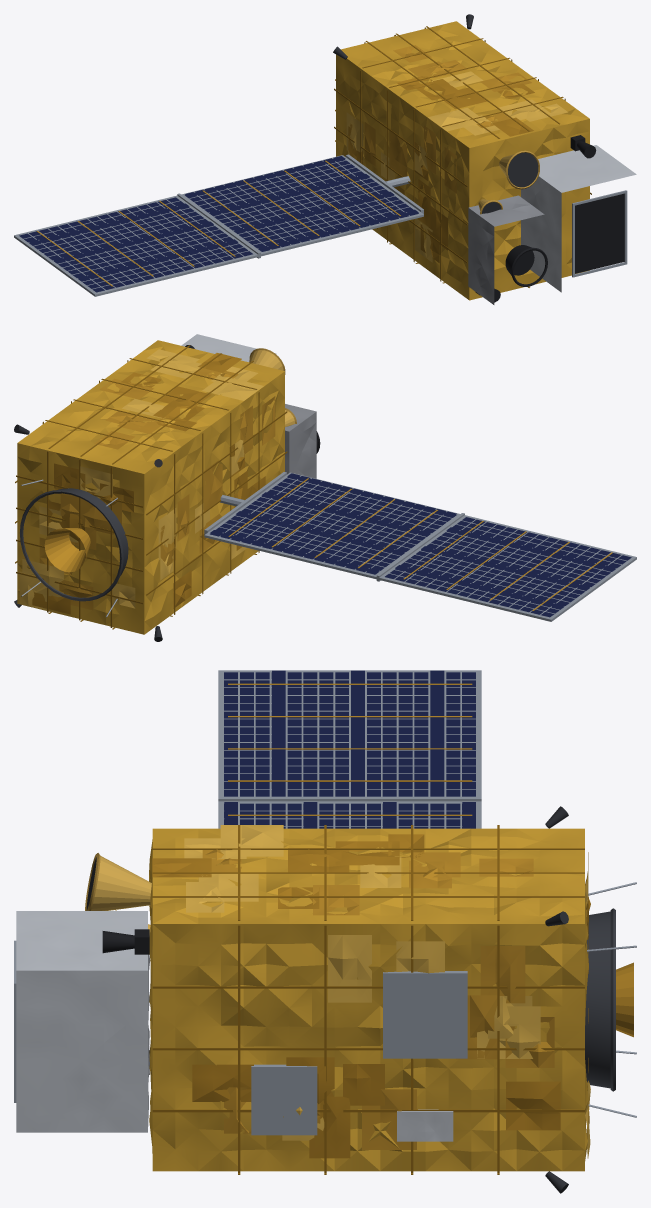
3 views of the same model, one above another, from view 1: azimuth 30°, elevation 25°; view 2: azimuth 150°, elevation 25°; view 3: azimuth 270°, elevation 25° (orthographic). The views are drawn at different scales.
Parts seen in each view (by area): view 1: foil, solar-panel, body; view 2: foil, solar-panel, body; view 3: foil, body, solar-panel.
Boxes of the visible parts, left/top/right/bottom form: foil: left=36, top=21, right=636, bottom=304; solar-panel: left=19, top=156, right=418, bottom=292; body: left=14, top=14, right=627, bottom=302; foil: left=15, top=334, right=612, bottom=634; solar-panel: left=210, top=473, right=631, bottom=617; body: left=14, top=345, right=636, bottom=641; foil: left=16, top=683, right=633, bottom=1174; body: left=14, top=670, right=636, bottom=1193; solar-panel: left=224, top=670, right=475, bottom=828.
Bounding box in the file's own units: 9.65 × 3.3 × 6.63.
